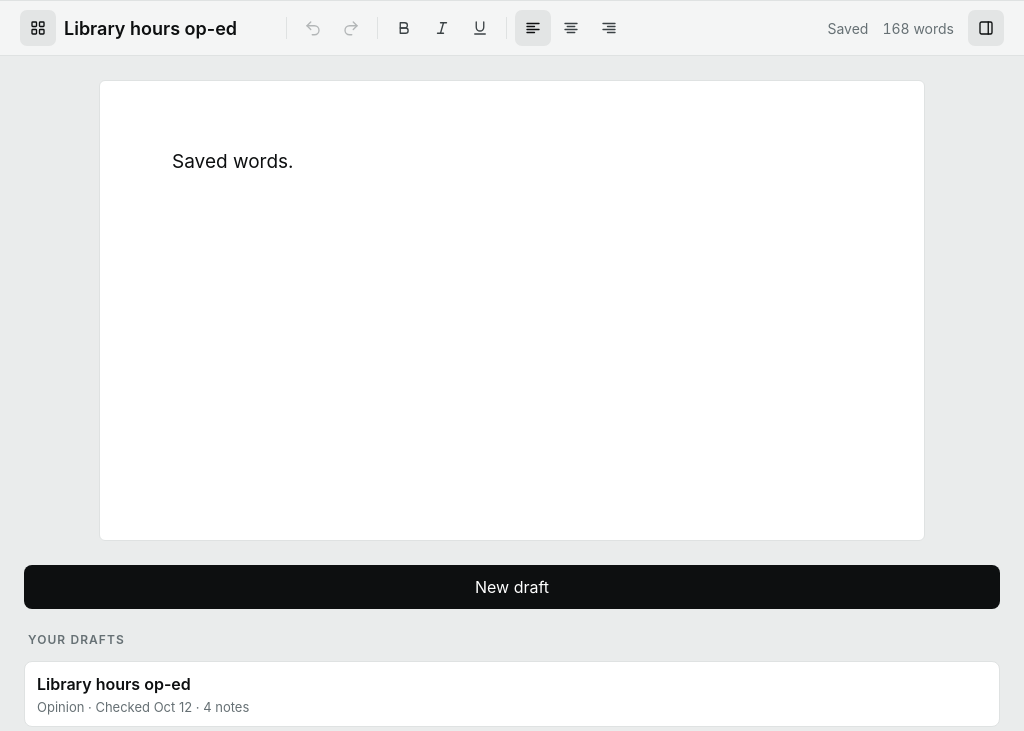
Test case: with drafts › the toggles hide and show the rail and the panel
This screenshot has width=1024, height=731.
Click the button named "Hide drafts": click(38, 28) [20,10,56,46]
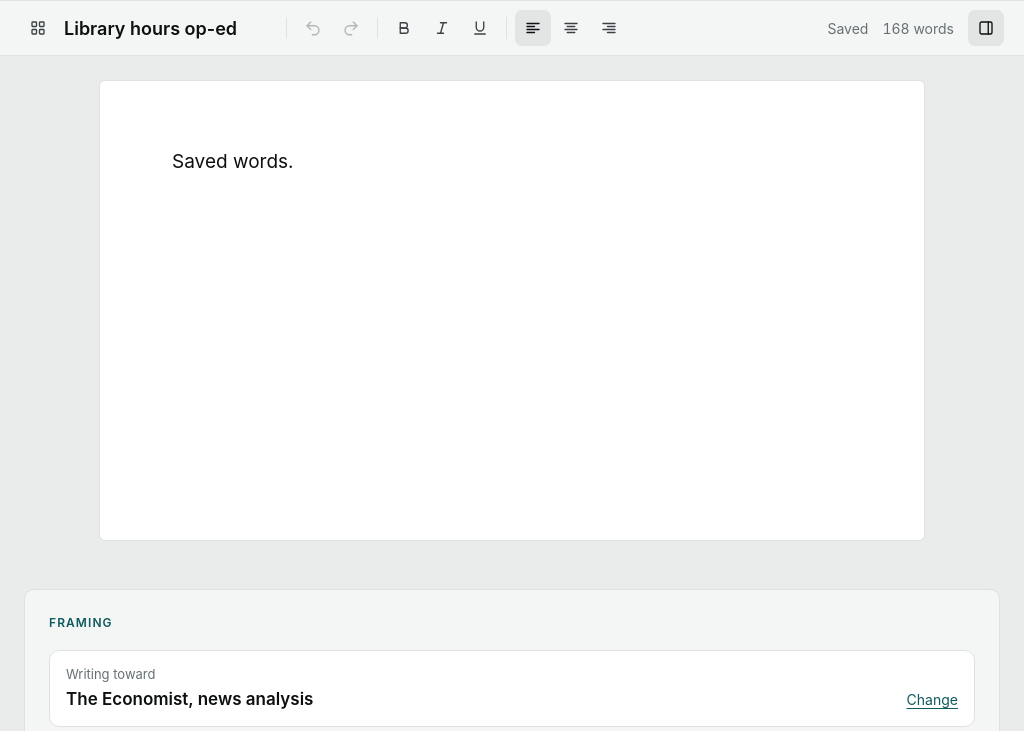
Result: the heading "drafts" is gone
Click the button named "Hide framing panel": click(986, 28) [968,10,1004,46]
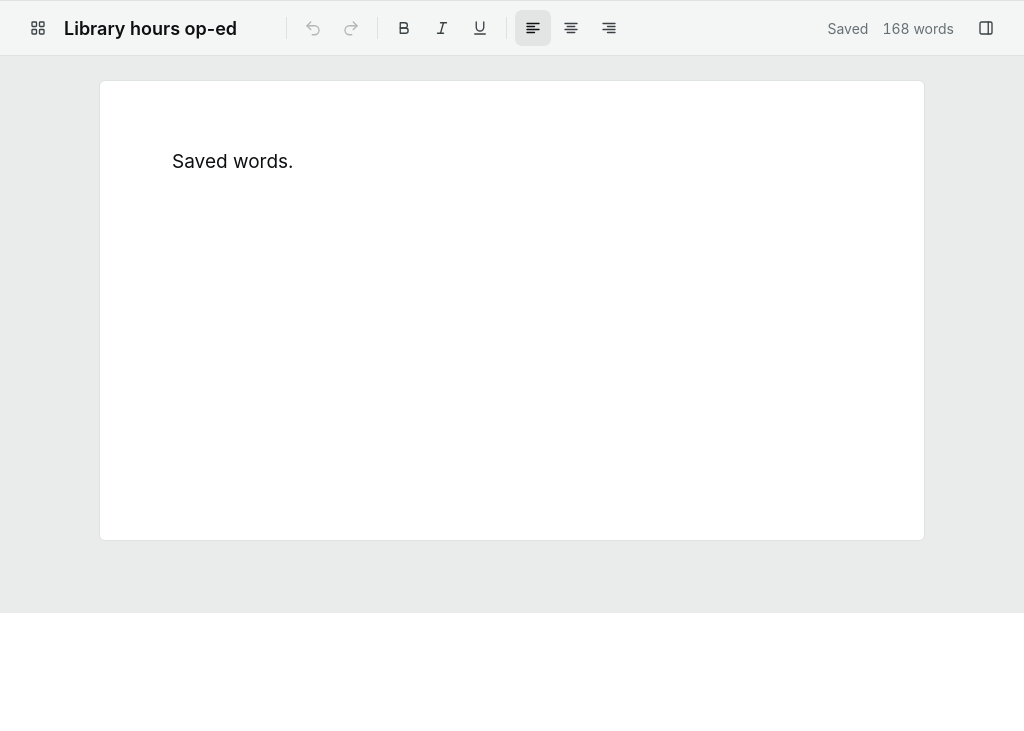
Result: the heading "Framing" is gone
Click the button named "Show drafts": click(38, 28) [20,10,56,46]
(page scrolled)
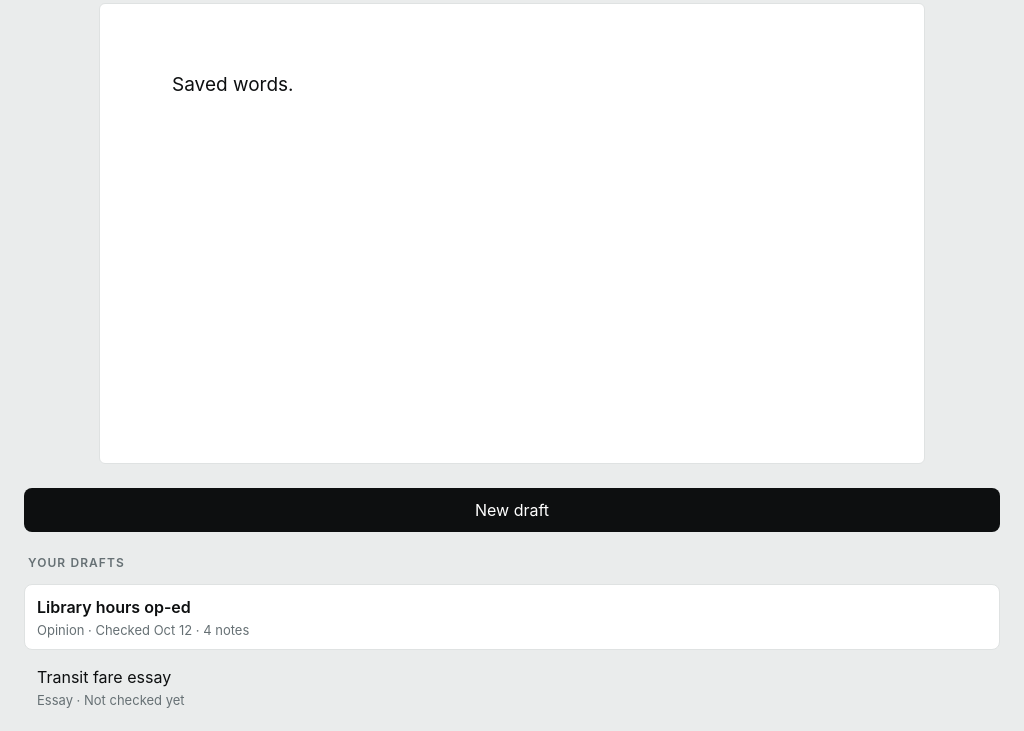
Result: the element "drafts" is shown at [24,488,1000,720]
